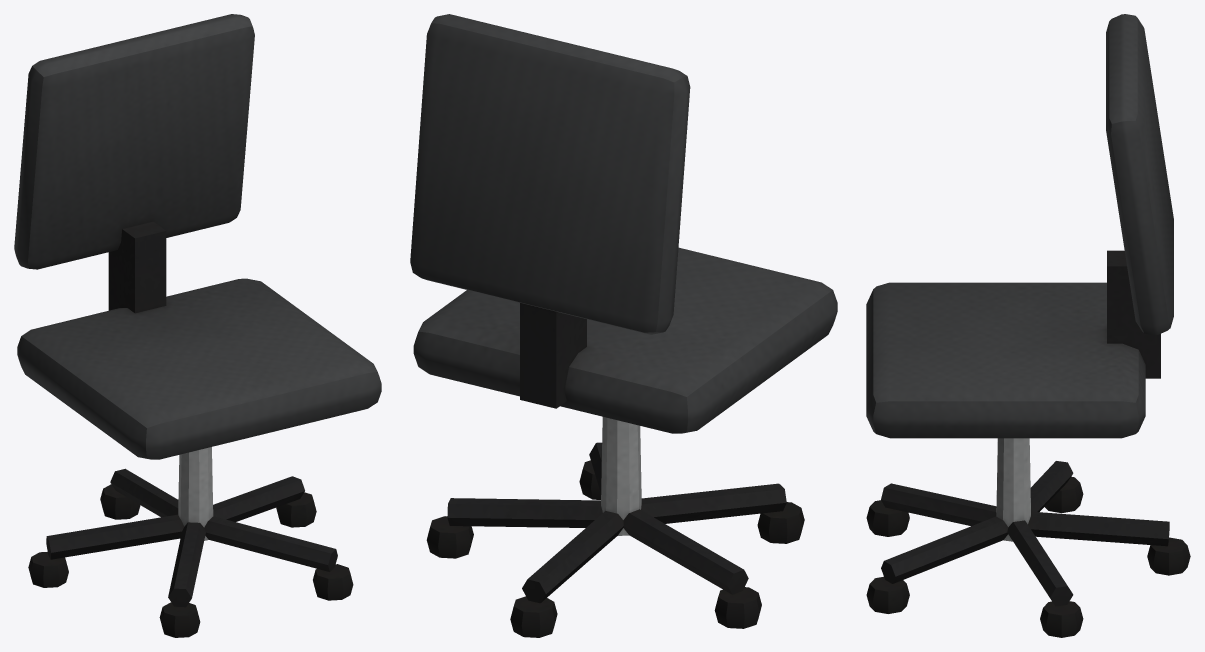
File: H_DeskChair.fbx
3 views of the same model, side by side, from view 1: azimuth 30°, elevation 25°; view 2: azimuth 150°, elevation 25°; view 3: azimuth 270°, elevation 25° (orthographic). The views are drawn at different scales.
Parts seen in each view (by area): view 1: H_DeskChair; view 2: H_DeskChair; view 3: H_DeskChair.
Part boxes in pixels (x1,y1,x2,y2): H_DeskChair: (14, 14, 381, 637); H_DeskChair: (410, 14, 837, 637); H_DeskChair: (866, 14, 1190, 637).
Bounding box in the file's own units: 218 × 359 × 209.
1 material, 1 textured.
